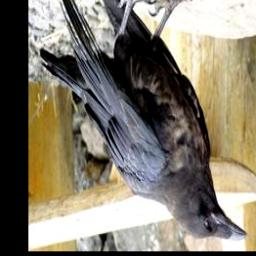Crow: (38, 0, 248, 243)
